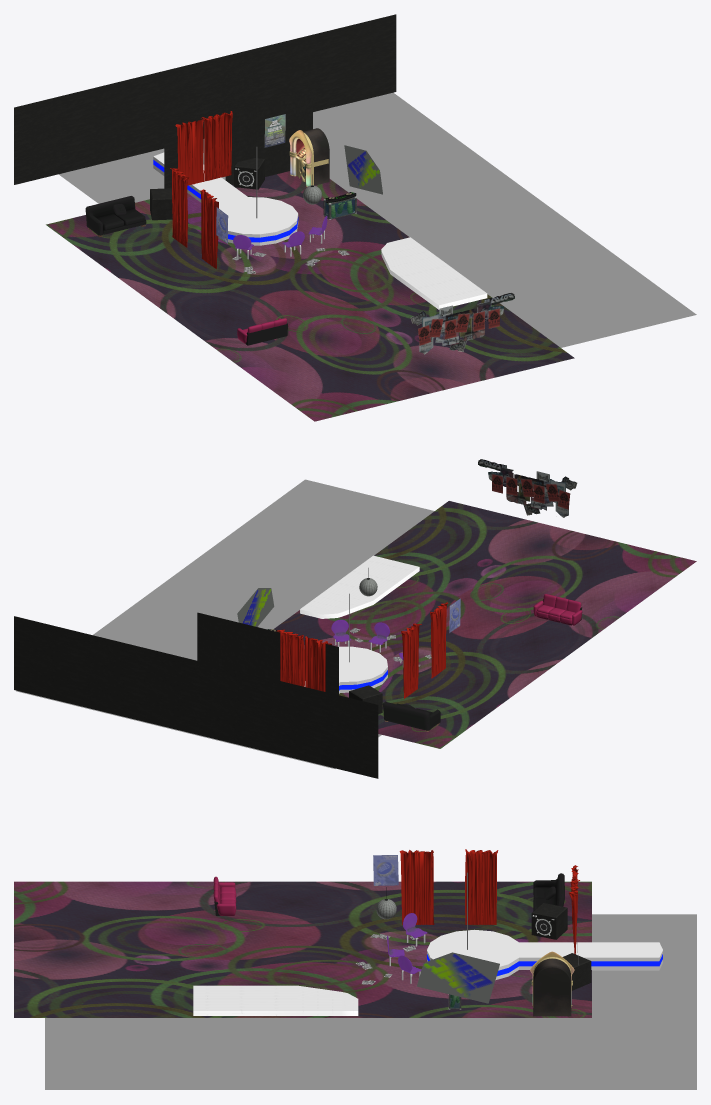
The model's file is pink-narwhal.glb.
3 renders of one model, top to bottom at view 1: azimuth 30°, elevation 25°; view 2: azimuth 150°, elevation 25°; view 3: azimuth 270°, elevation 25°, orthographic. The views are drawn at different scales.
Parts seen in each view (by area): view 1: polySurface9753__FloorFabric2.002, Struct.Floor.001, Struct.WallE.002, Struct.WallE.001, PoleDanceBigStage, PoleDanceSmallStage, prop_static_165.002, Back__M_LobbyMusicSelecter.001, curtain_R, SofaParts_002__Sofa.003, curtain_L, Graffiti.002 (+7 smaller); view 2: polySurface9753__FloorFabric2.002, Struct.WallE.002, Struct.Floor.001, Struct.WallE.001, PoleDanceSmallStage, prop_static_165.002, PoleDanceBigStage, curtain_R, SofaParts_002__Sofa.003, VIP Couch, curtain_L, curtain_R.001 (+3 smaller); view 3: polySurface9753__FloorFabric2.002, Struct.Floor.001, PoleDanceBigStage, PoleDanceSmallStage, Graffiti.002, Back__M_LobbyMusicSelecter.001, curtain_R.001, curtain_L.001, Boombox.002, SofaParts_002__Sofa.003, pCube22726__LobbySign00_np.008, VIP Couch (+1 smaller).
Boxes of the visible parts, <box> form: polySurface9753__FloorFabric2.002: <box>46,171,574,421</box>; Struct.Floor.001: <box>59,92,696,347</box>; Struct.WallE.002: <box>14,14,396,184</box>; Struct.WallE.001: <box>164,90,312,188</box>; PoleDanceBigStage: <box>153,152,298,245</box>; PoleDanceSmallStage: <box>381,237,487,309</box>; prop_static_165.002: <box>410,293,514,354</box>; Back__M_LobbyMusicSelecter.001: <box>289,128,329,186</box>; curtain_R: <box>202,111,232,181</box>; SofaParts_002__Sofa.003: <box>85,196,146,237</box>; curtain_L: <box>175,118,204,185</box>; Graffiti.002: <box>344,145,382,194</box>; polySurface9753__FloorFabric2.002: <box>273,501,696,748</box>; Struct.WallE.002: <box>14,616,378,778</box>; Struct.Floor.001: <box>16,479,434,768</box>; Struct.WallE.001: <box>197,612,338,695</box>; PoleDanceSmallStage: <box>300,555,419,618</box>; prop_static_165.002: <box>478,459,577,517</box>; PoleDanceBigStage: <box>304,646,387,693</box>; curtain_R: <box>276,629,304,686</box>; SofaParts_002__Sofa.003: <box>382,701,440,731</box>; VIP Couch: <box>533,594,582,625</box>; curtain_L: <box>304,636,331,691</box>; curtain_R.001: <box>401,623,421,698</box>; polySurface9753__FloorFabric2.002: <box>14,881,591,1017</box>; Struct.Floor.001: <box>45,914,696,1089</box>; PoleDanceBigStage: <box>427,929,662,980</box>; PoleDanceSmallStage: <box>193,985,358,1015</box>; Graffiti.002: <box>416,952,499,1003</box>; Back__M_LobbyMusicSelecter.001: <box>530,951,574,1016</box>; curtain_R.001: <box>465,849,498,924</box>; curtain_L.001: <box>399,850,434,924</box>; Boombox.002: <box>531,903,567,939</box>; SofaParts_002__Sofa.003: <box>533,873,564,910</box>; pCube22726__LobbySign00_np.008: <box>373,855,398,885</box>; VIP Couch: <box>213,876,236,915</box>.
Bounding box in the file's own units: 20.01 × 4.16 × 27.62.
Materials: 27 (19 with a texture image).
